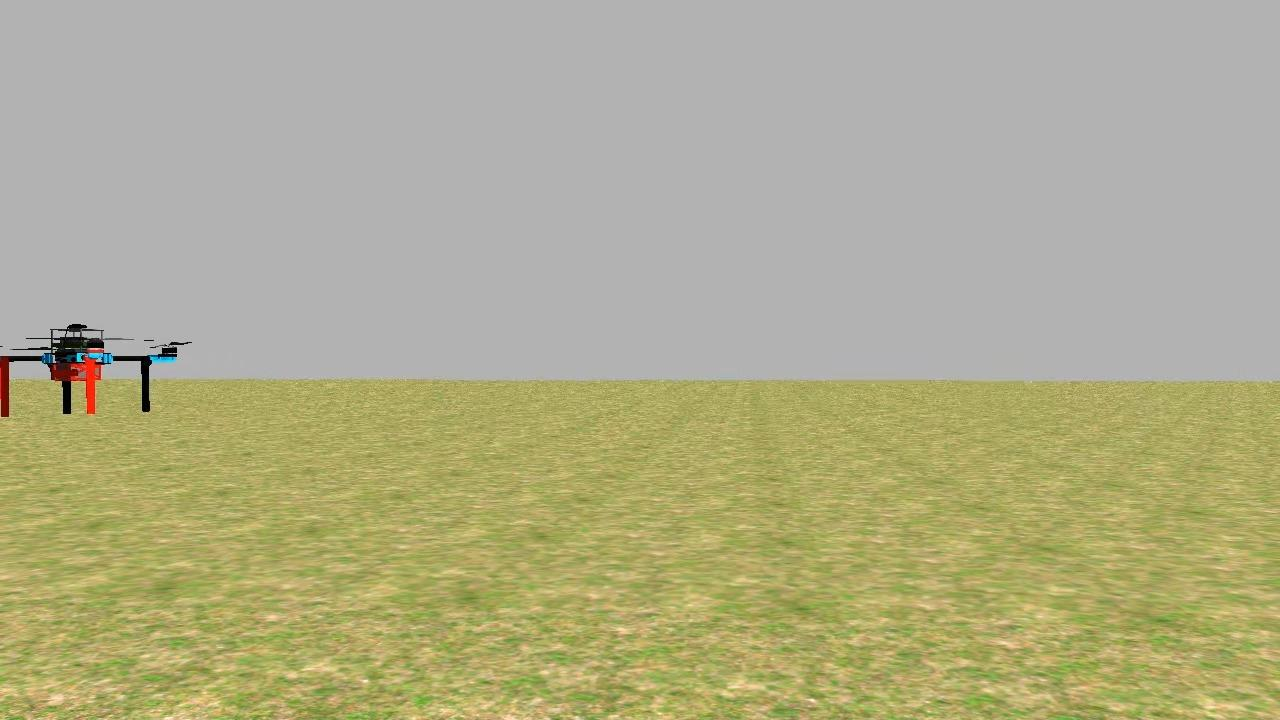UAV: (0, 308, 191, 423)
